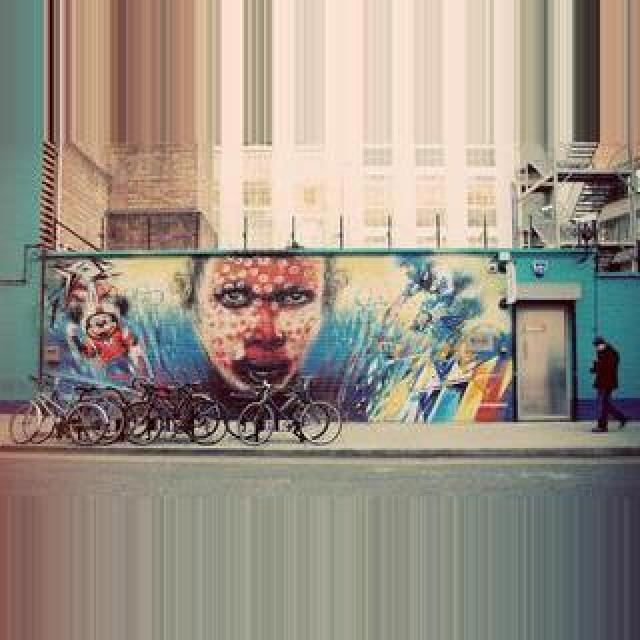MC-Bike: (590, 334, 628, 432)
Person: (235, 374, 341, 446), (119, 376, 225, 446), (9, 373, 107, 445)
